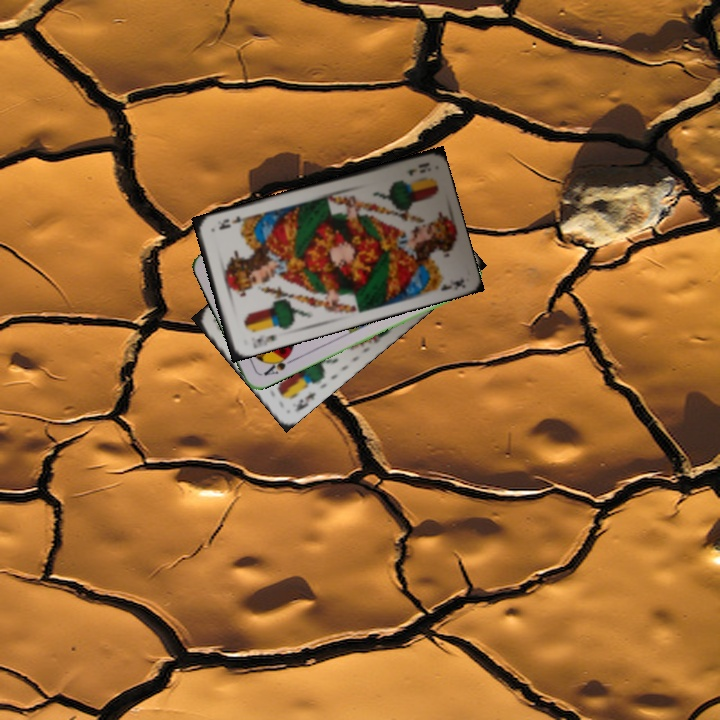EK: (290, 388, 318, 414), (249, 330, 279, 350), (404, 158, 431, 178)
SA: (260, 350, 296, 379)
